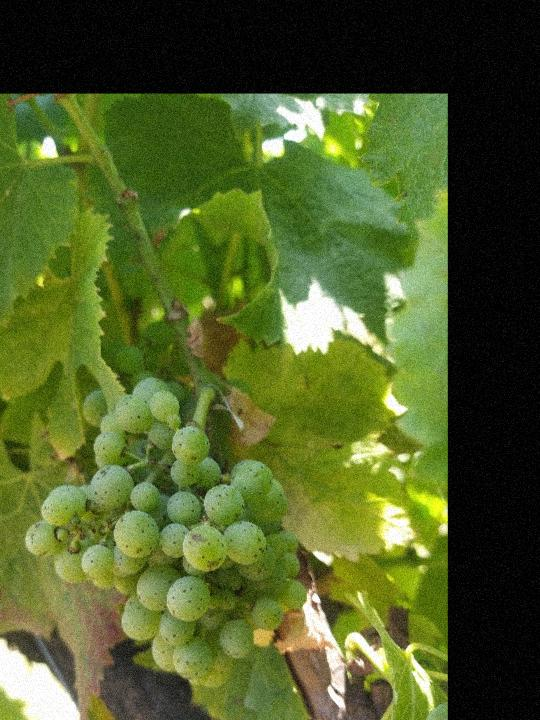grape: (23, 376, 308, 692)
